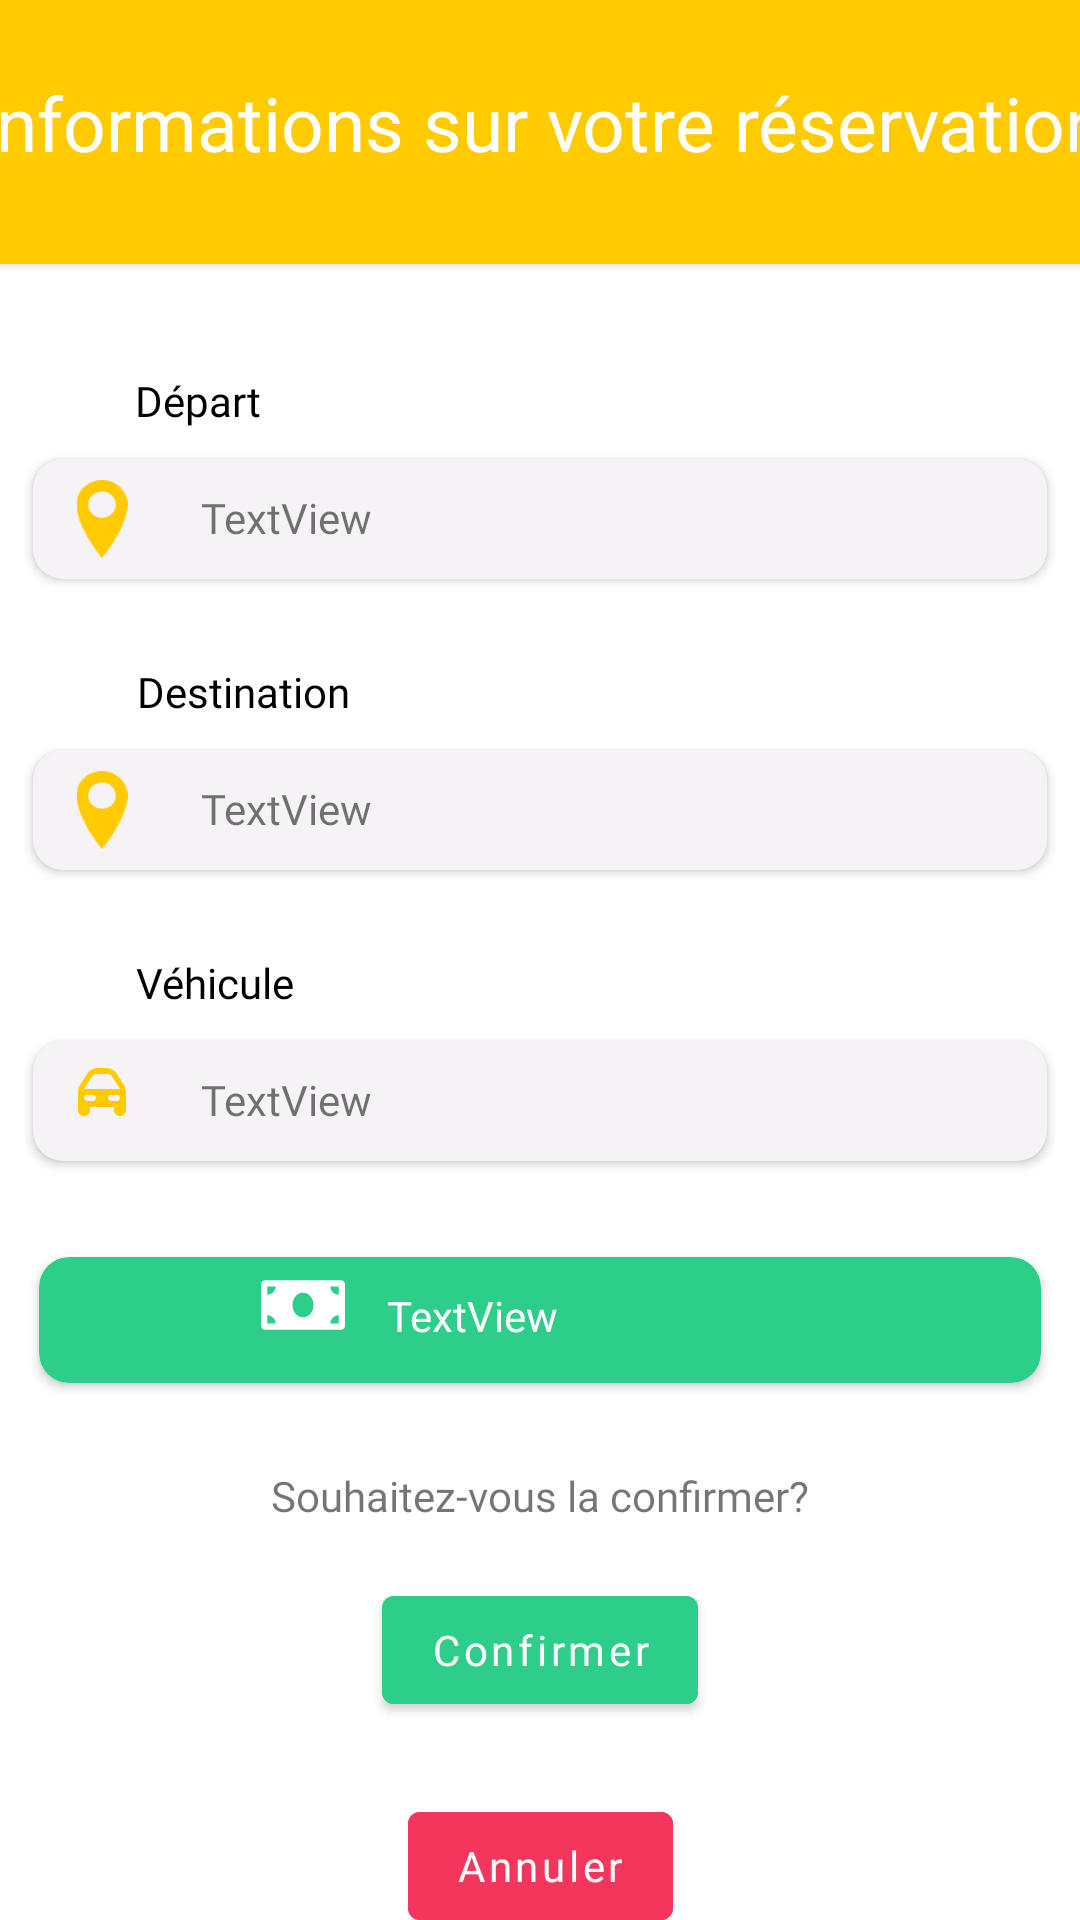

Where to tap for icons on this 1080 × 1920 app screen, as [x,y]:
car: [102,1092]
localisation: [102,519], [102,810]
